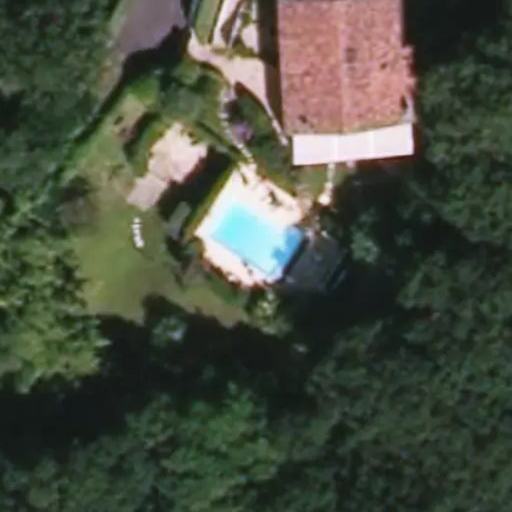pool: (200, 232, 311, 244)
